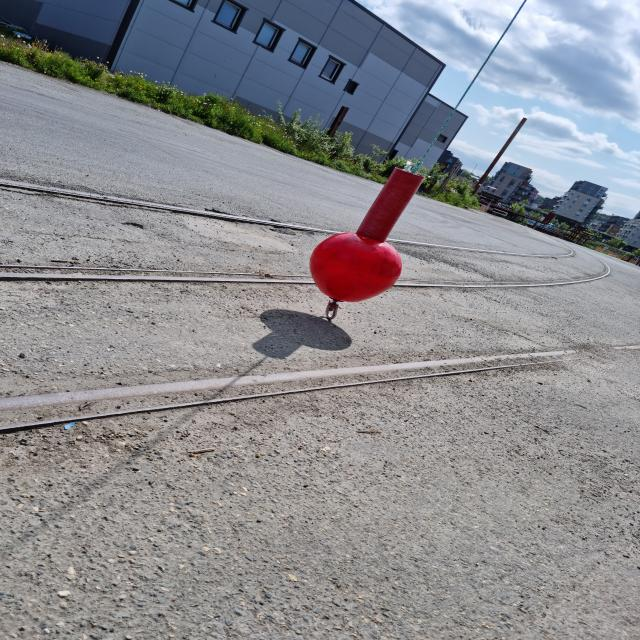red: (309, 170, 423, 303)
